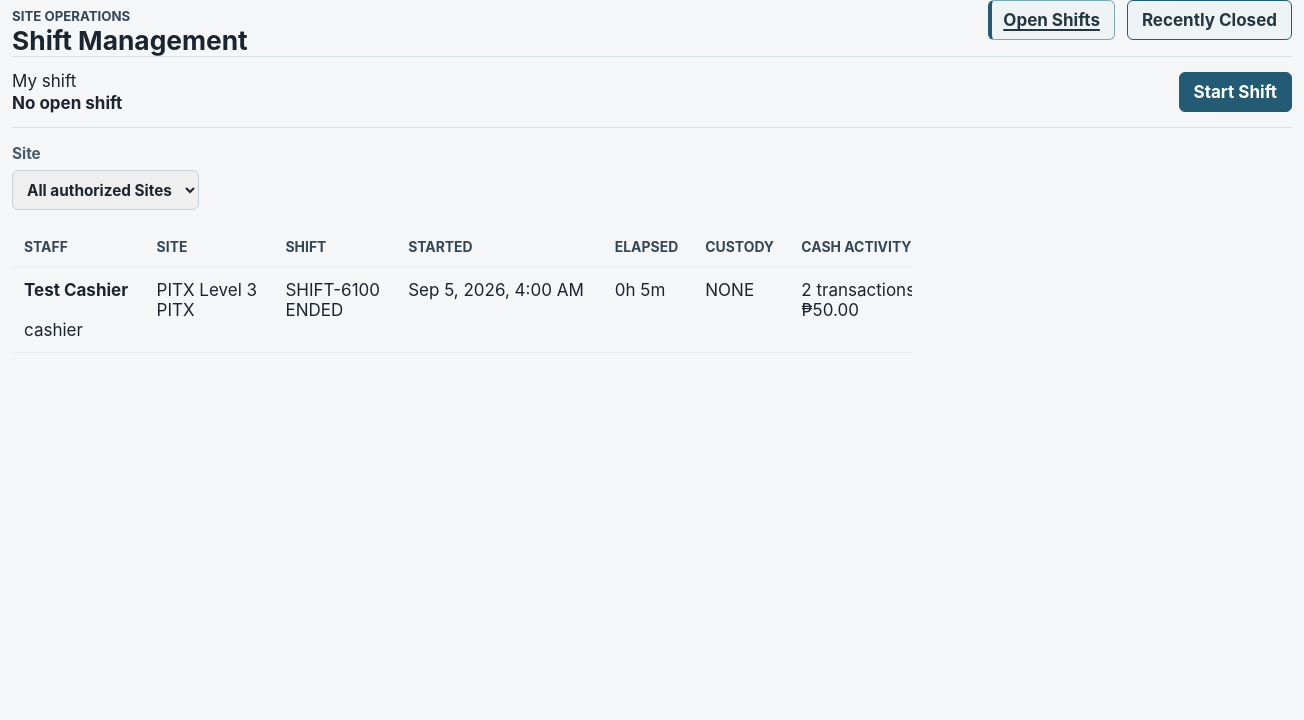
Test: ShiftManagement › shows own recently closed history without exposing the staff filter
The width and height of the screenshot is (1304, 720).
Step 1. Click the button "Recently Closed" → (1209, 20), box [1127,0,1292,40]
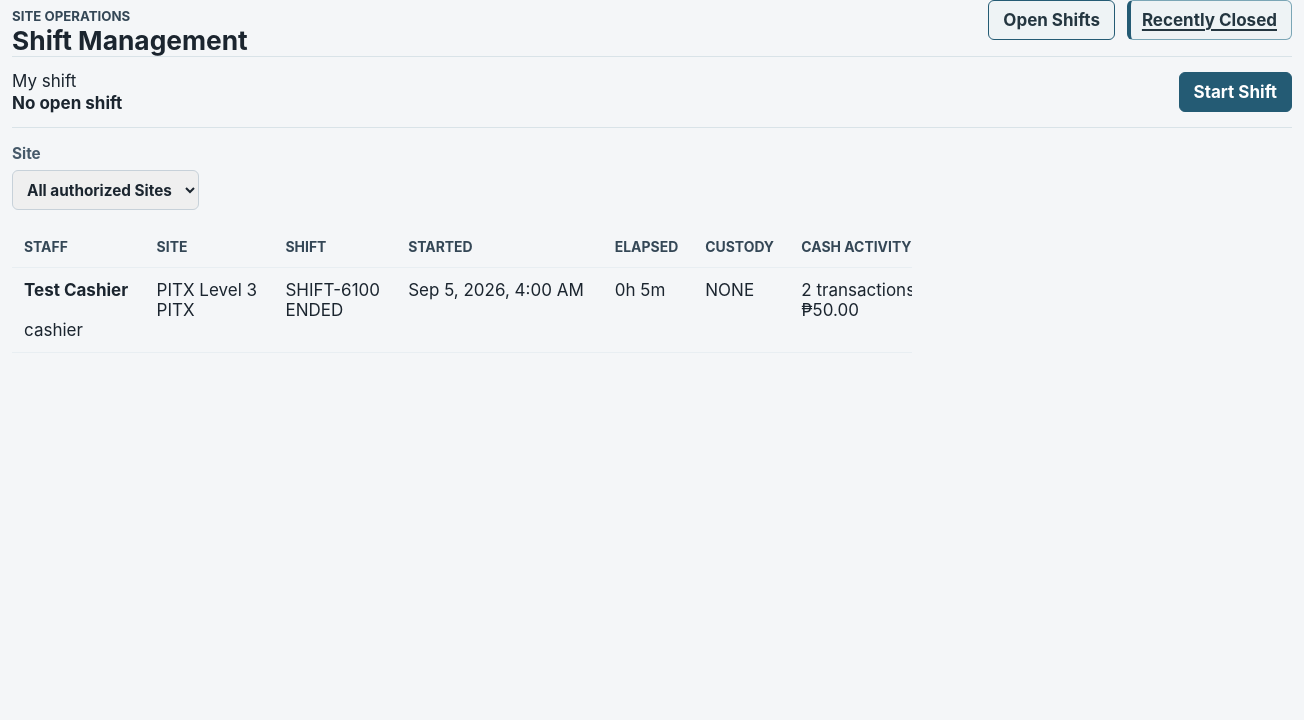
Step 2. Click the text "Test Cashier" → (78, 290), box [24,280,133,300]
(page scrolled)
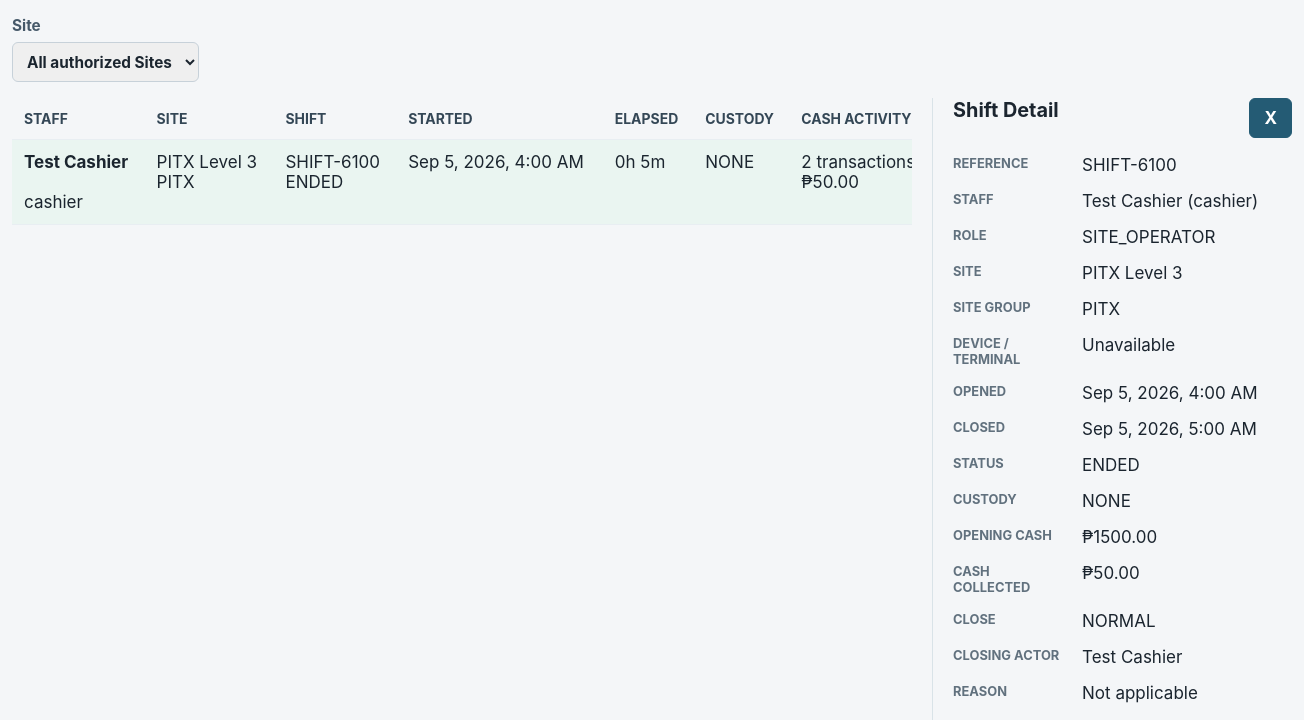
Expected: the text "ENDED" is shown, [1082,455,1140,475]
Expected: the text "NORMAL" is shown, [1082,611,1156,631]
